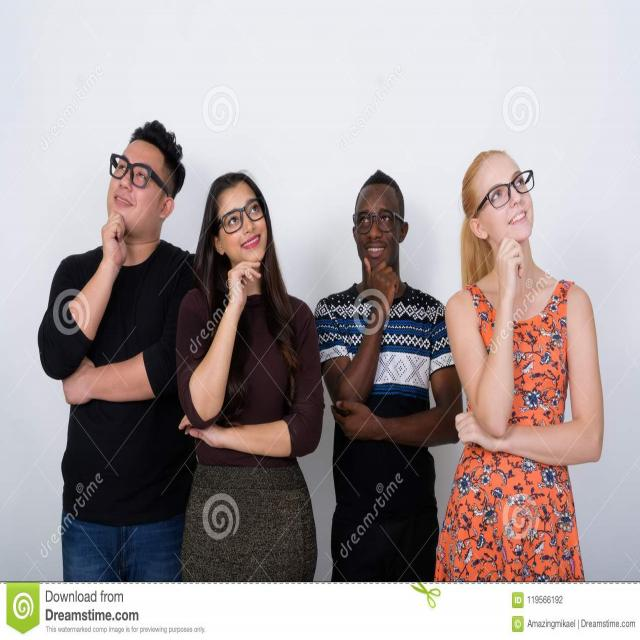Glasses: (476, 168, 536, 218), (109, 151, 168, 198), (214, 195, 267, 237), (352, 208, 404, 234)
